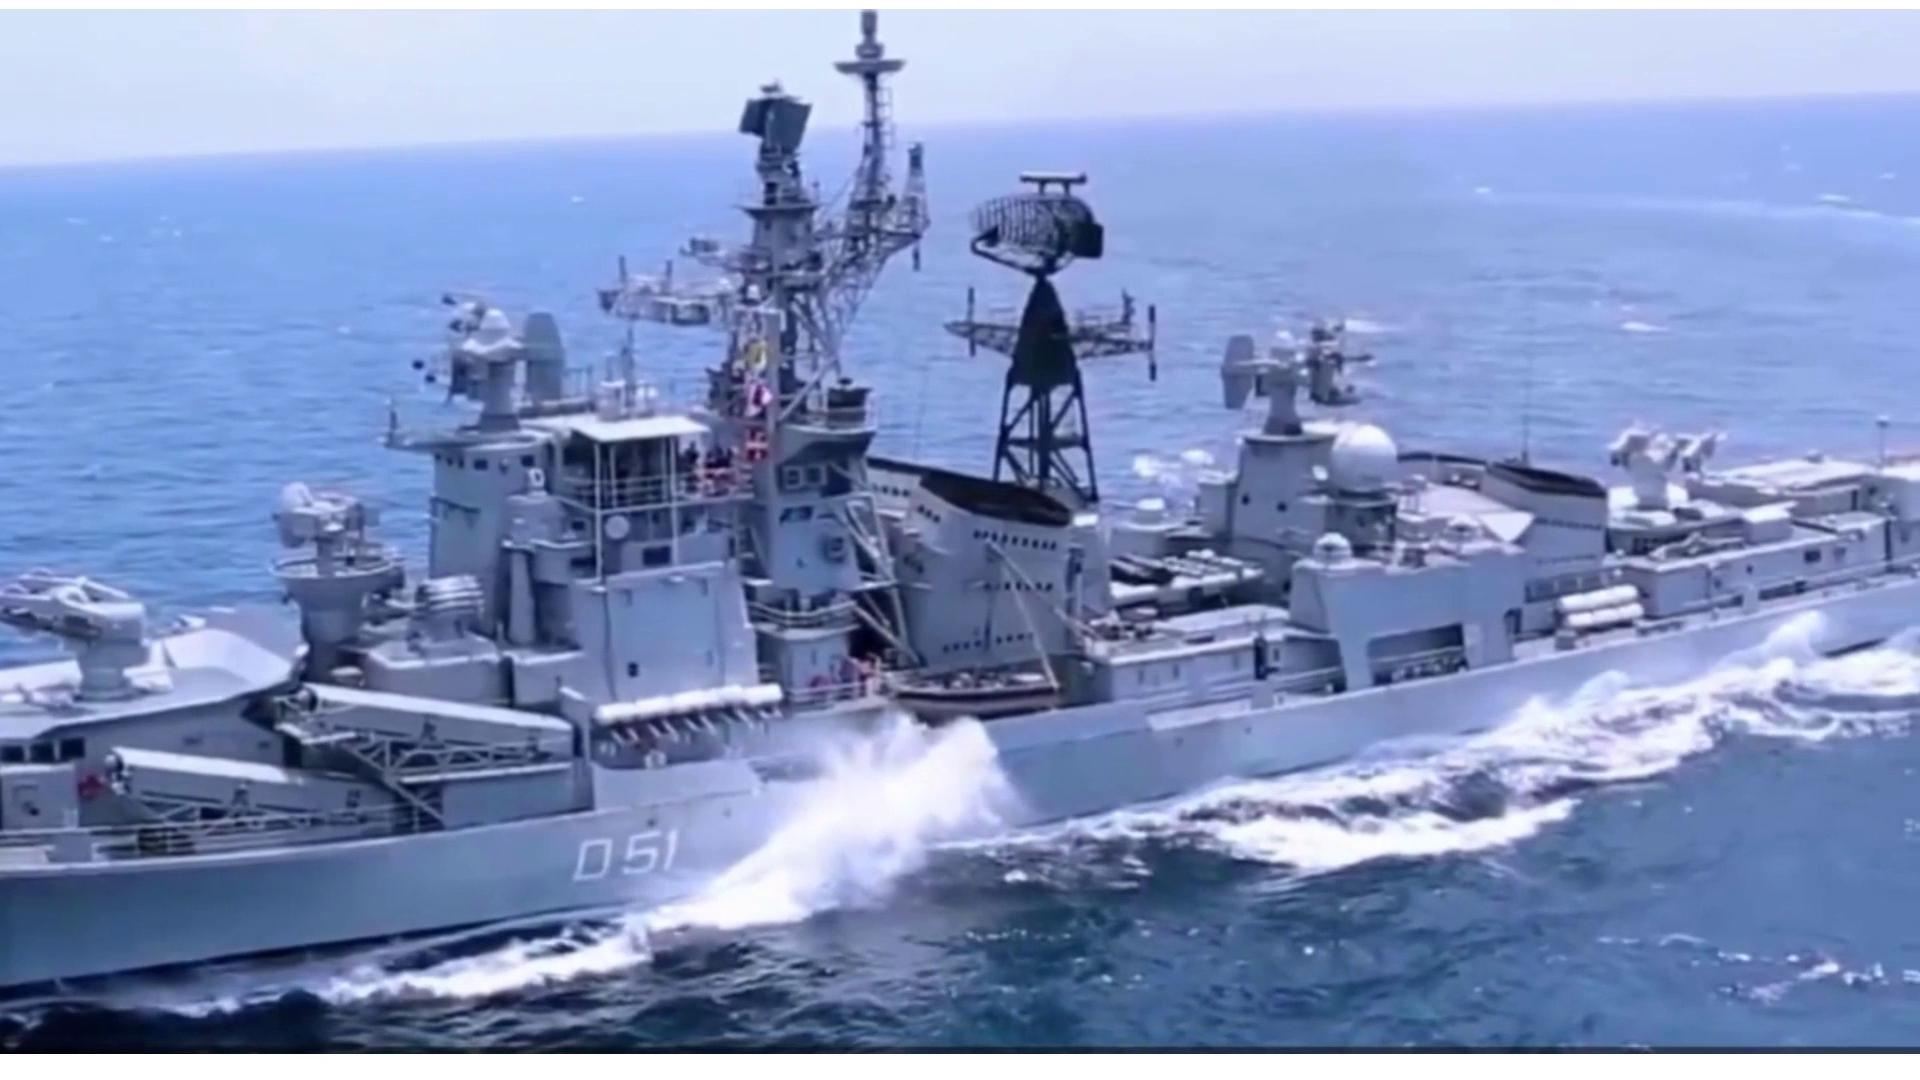OCR: (536, 809, 686, 895)
